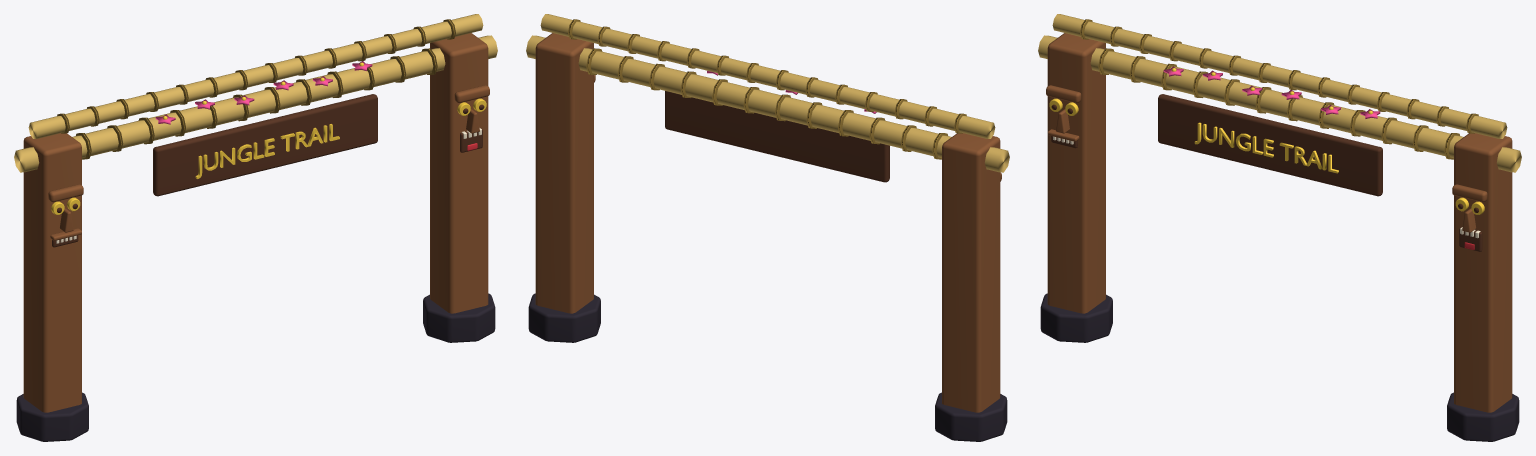
The model's file is lava_gate.glb.
3 renders of one model, left to right at view 1: azimuth 30°, elevation 25°; view 2: azimuth 150°, elevation 25°; view 3: azimuth 330°, elevation 25°, orthographic.
Parts seen in each view (by area): view 1: Gate; view 2: Gate; view 3: Gate.
Boxes of the visible parts, left/top/right/bottom form: Gate: left=14, top=14, right=497, bottom=441; Gate: left=526, top=14, right=1009, bottom=441; Gate: left=1038, top=14, right=1521, bottom=441.
Bounding box in the file's own units: 7.2 × 4.54 × 0.9821.
